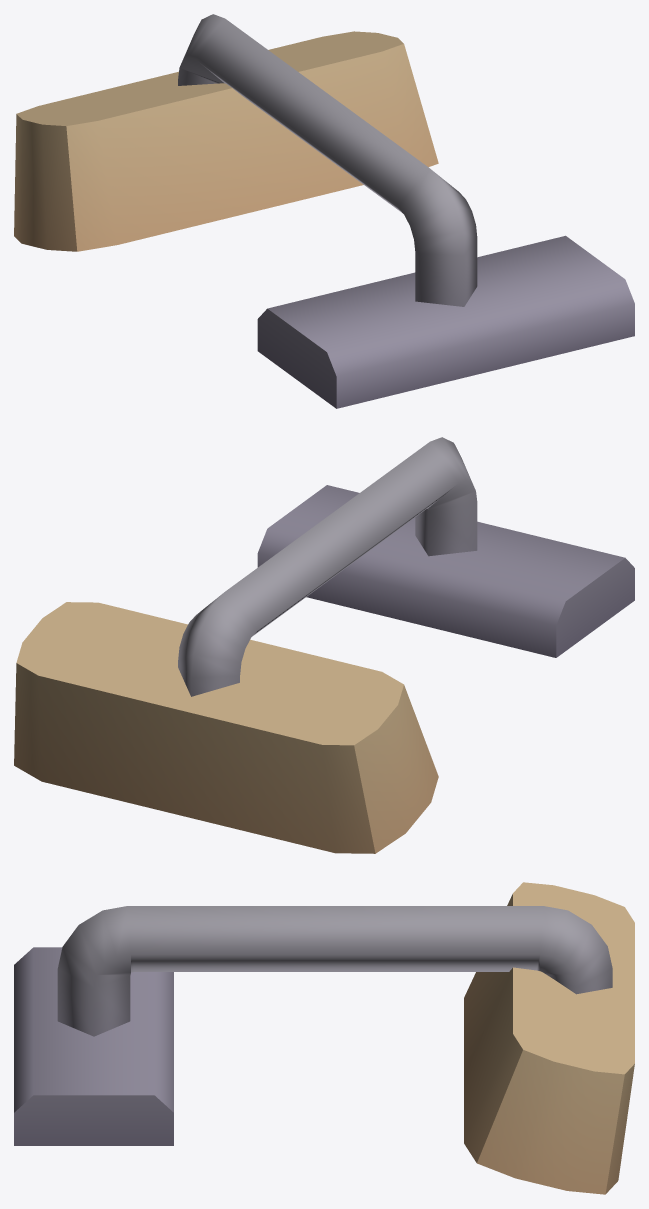
File: lamp-bookcase-long.glb
The picture shows the model from 3 angles, top to bottom: view 1: azimuth 30°, elevation 25°; view 2: azimuth 150°, elevation 25°; view 3: azimuth 270°, elevation 25°; orthographic projection.
Parts seen in each view (by area): view 1: lamp-bookcase-long; view 2: lamp-bookcase-long; view 3: lamp-bookcase-long.
Part boxes in pixels (bbox=[...]): lamp-bookcase-long: bbox=[14, 14, 634, 408]; lamp-bookcase-long: bbox=[14, 437, 634, 853]; lamp-bookcase-long: bbox=[14, 882, 634, 1194].
Size of the model in its own units: 0.2324 by 0.115 by 0.3201.
